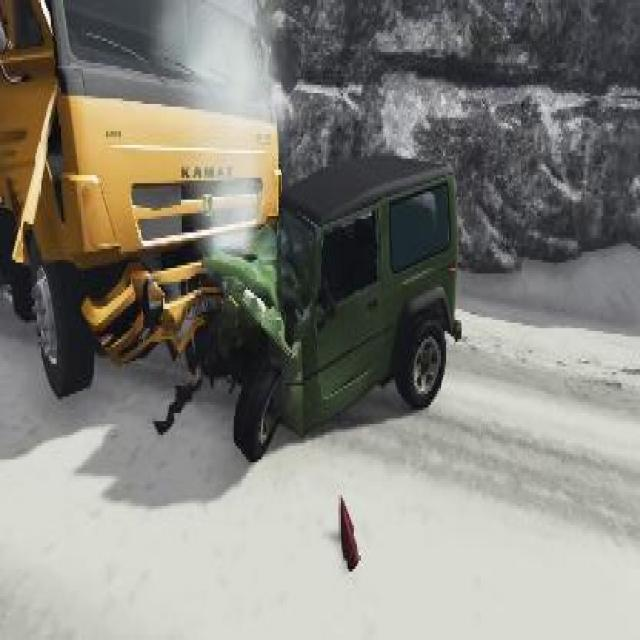accident: (0, 0, 466, 462)
